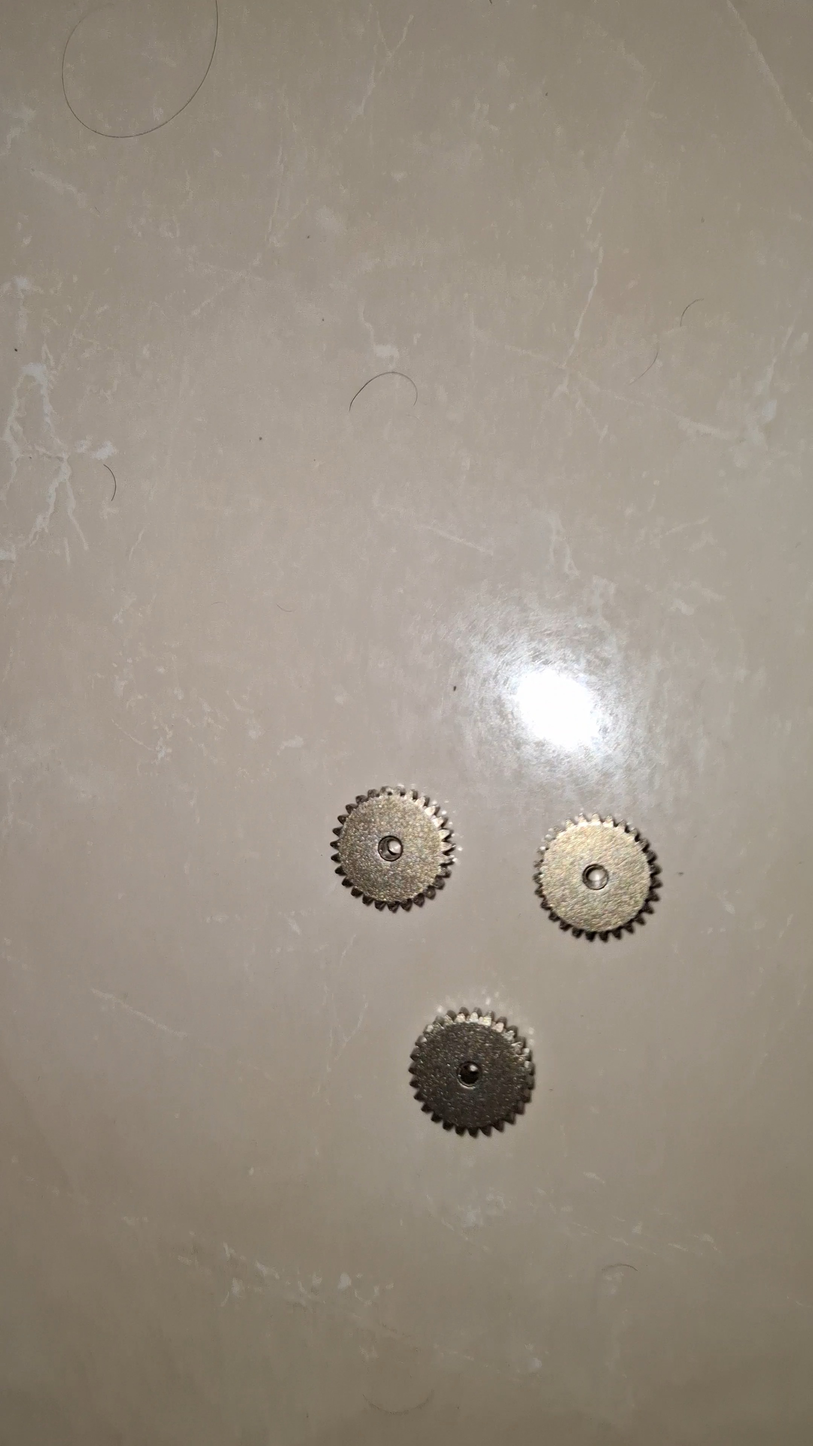spur gear: (535, 815, 660, 940), (410, 1010, 534, 1135), (332, 787, 454, 911)
